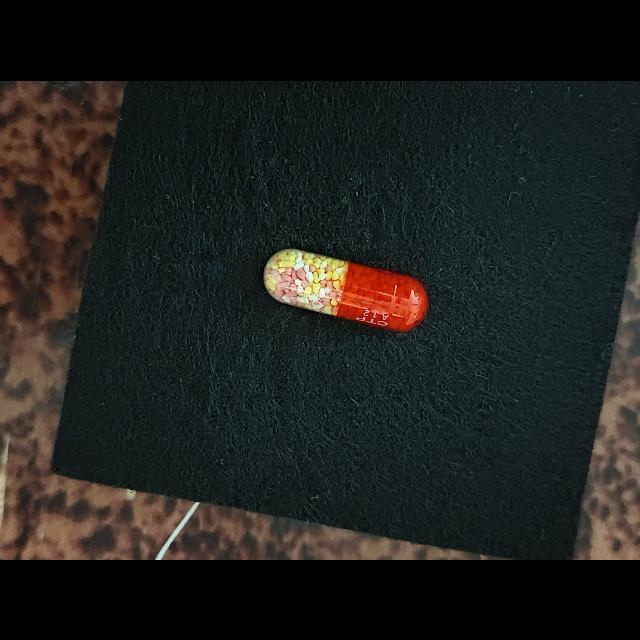Intact Capsule: (263, 248, 429, 331)
